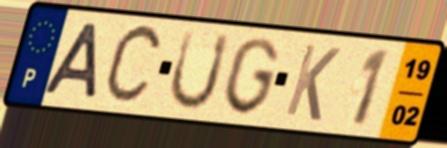1: (346, 46, 393, 129)
A: (39, 20, 104, 102)
C: (99, 21, 166, 111)
G: (220, 35, 283, 118)
K: (281, 41, 343, 124)
U: (165, 27, 233, 113)
